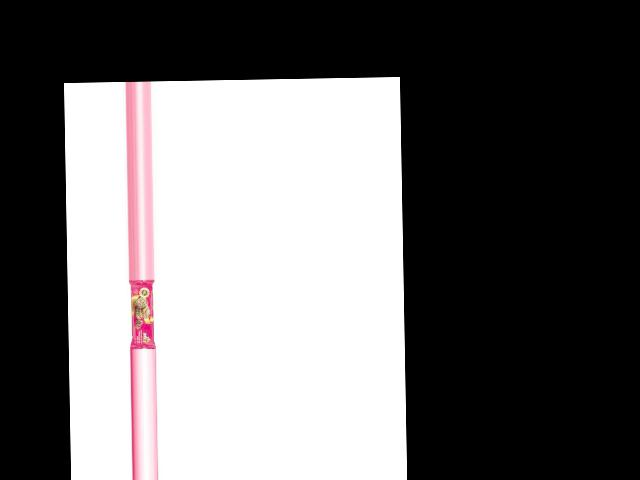chocolate: (126, 281, 154, 350)
